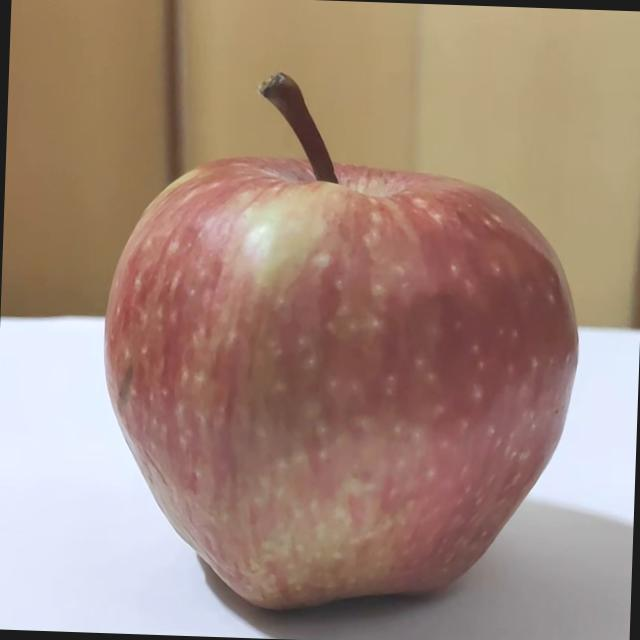apple: (97, 64, 597, 623)
